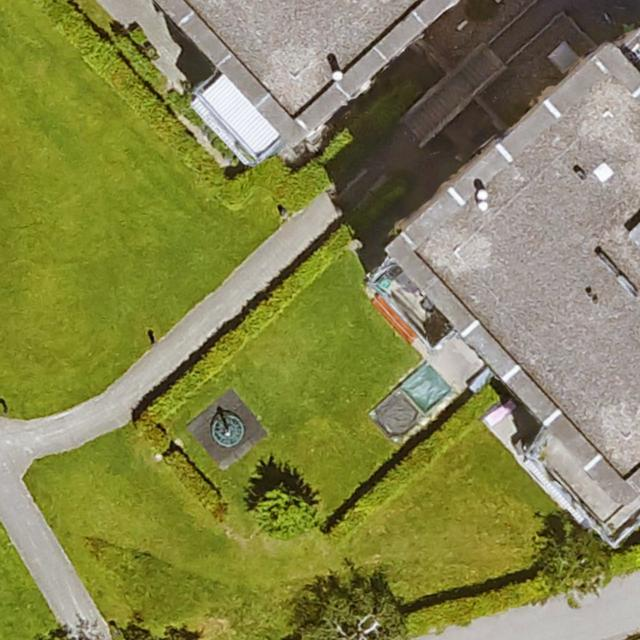tree: (291, 577, 405, 640), (548, 537, 608, 592), (252, 488, 316, 539)
